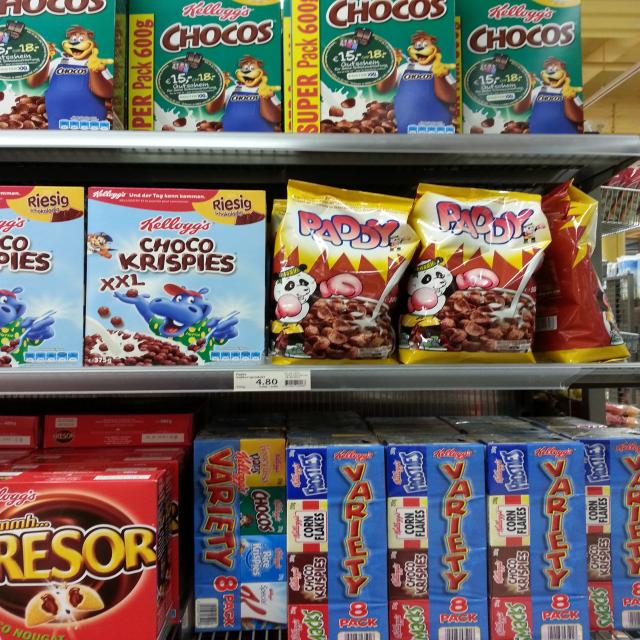Cereals: (0, 461, 178, 640), (90, 192, 262, 363), (271, 176, 401, 366), (277, 0, 453, 134), (476, 437, 586, 640), (411, 185, 534, 361), (119, 0, 281, 132), (380, 438, 485, 640), (183, 439, 286, 632), (446, 2, 588, 134), (286, 450, 383, 640), (0, 180, 86, 370), (0, 0, 119, 135), (571, 432, 640, 640)
